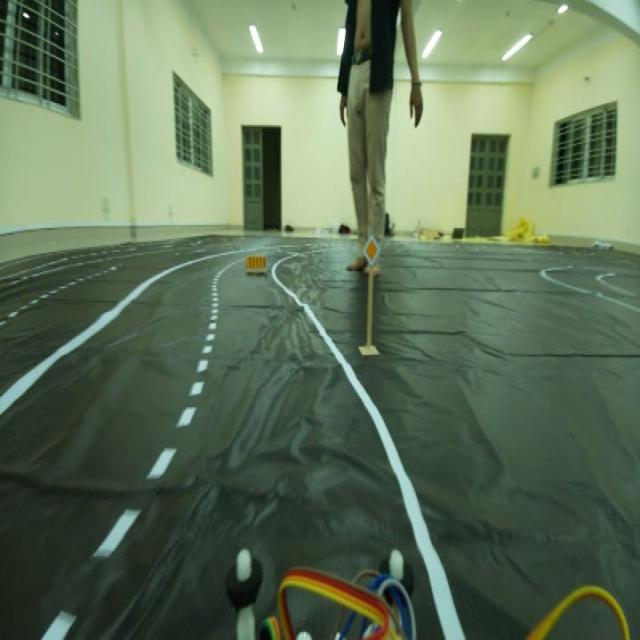priority: (355, 232, 385, 272)
